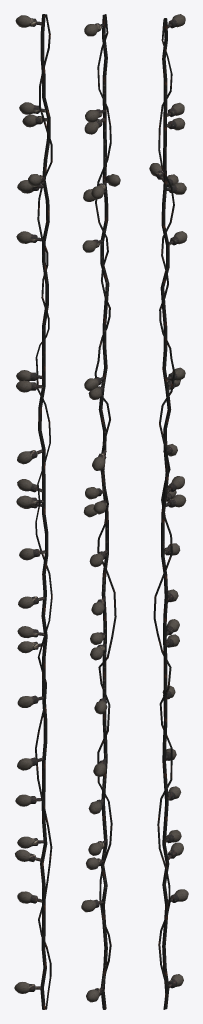
File: P_LightBulb01.FBX
3 renders of one model, left to right at view 1: azimuth 90°, elevation 25°; view 2: azimuth 150°, elevation 25°; view 3: azimuth 330°, elevation 25°, orthographic.
Parts seen in each view (by area): view 1: P_LightBulb01; view 2: P_LightBulb01; view 3: P_LightBulb01.
Boxes of the visible parts, x1,y1,x2,y2 form: P_LightBulb01: [14, 14, 52, 1009]; P_LightBulb01: [81, 14, 120, 1009]; P_LightBulb01: [149, 14, 188, 1009].
Size of the model in its own units: 10.43 by 300 by 10.56.
